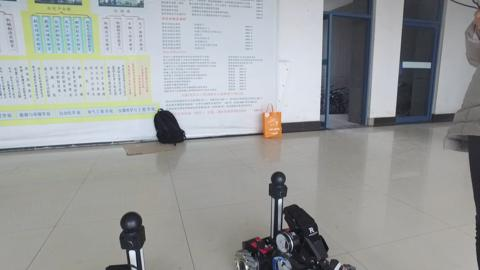bag: (148, 104, 193, 148), (257, 103, 287, 143)
chariot: (227, 164, 356, 270)
